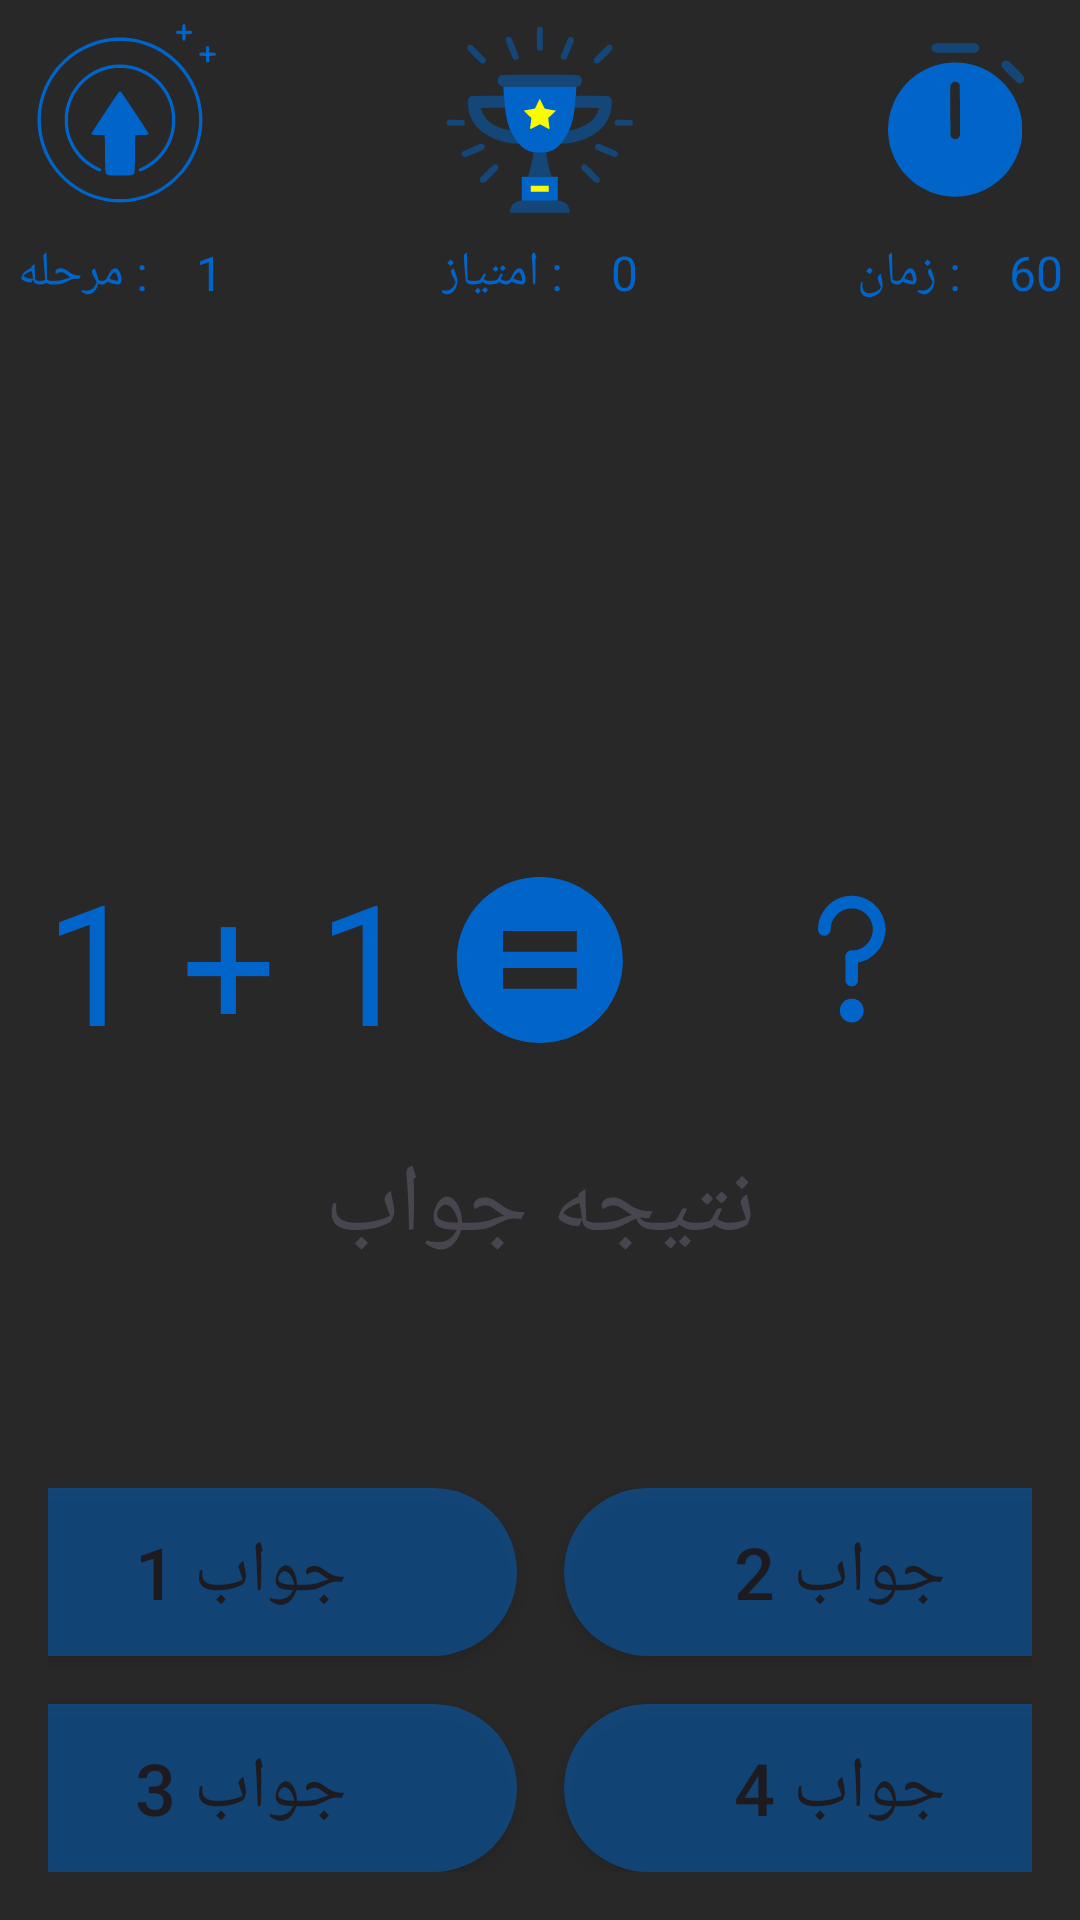

Icon click points for this 1080×1920 phone screenshot, format [x,y]:
Level: [126,113]
Sign: [539,960]
Timer: [956,120]
Unknown Equation: [852,959]
